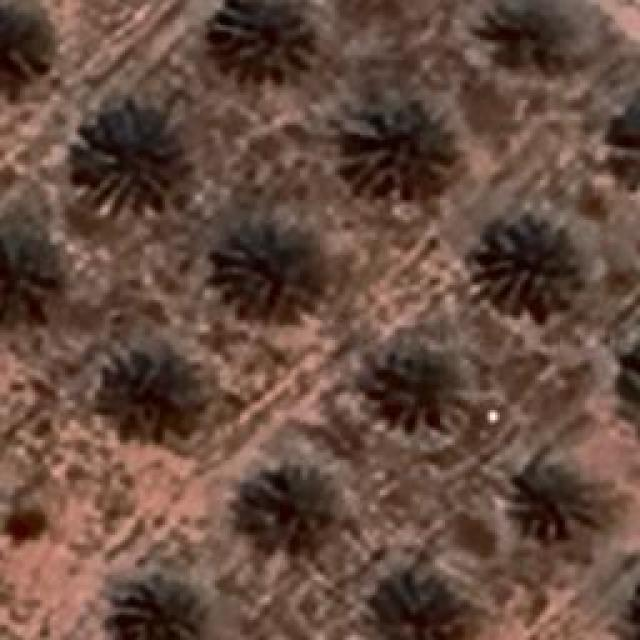PalmTree: (25, 49, 626, 140), (70, 105, 190, 213), (342, 92, 462, 192), (212, 220, 320, 322), (475, 212, 580, 312), (118, 348, 208, 452), (508, 458, 618, 540), (240, 465, 340, 550), (210, 0, 318, 78), (380, 344, 472, 428), (371, 555, 461, 640), (0, 214, 55, 328), (492, 4, 578, 76), (117, 574, 210, 638), (615, 336, 640, 443), (620, 338, 640, 446), (622, 565, 640, 640)
